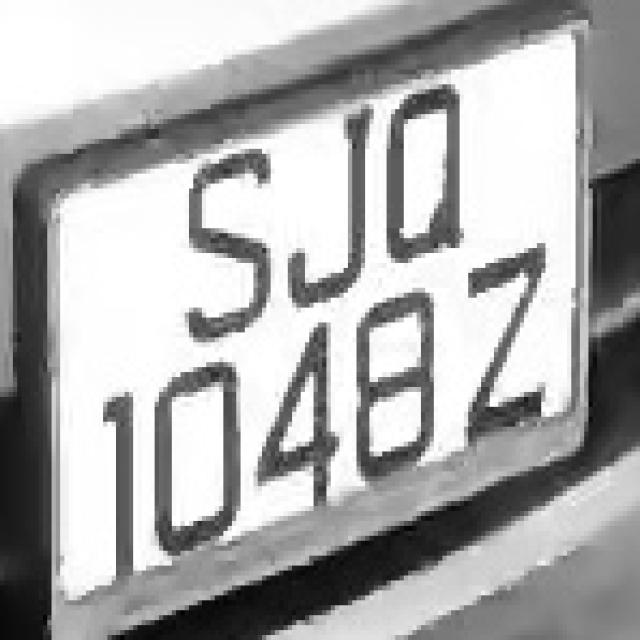0: (137, 362, 258, 561)
1: (103, 352, 155, 596)
4: (244, 322, 344, 521)
8: (335, 288, 442, 501)
J: (288, 80, 387, 308)
Q: (352, 89, 473, 263)
S: (176, 134, 288, 347)
Z: (460, 233, 562, 437)
